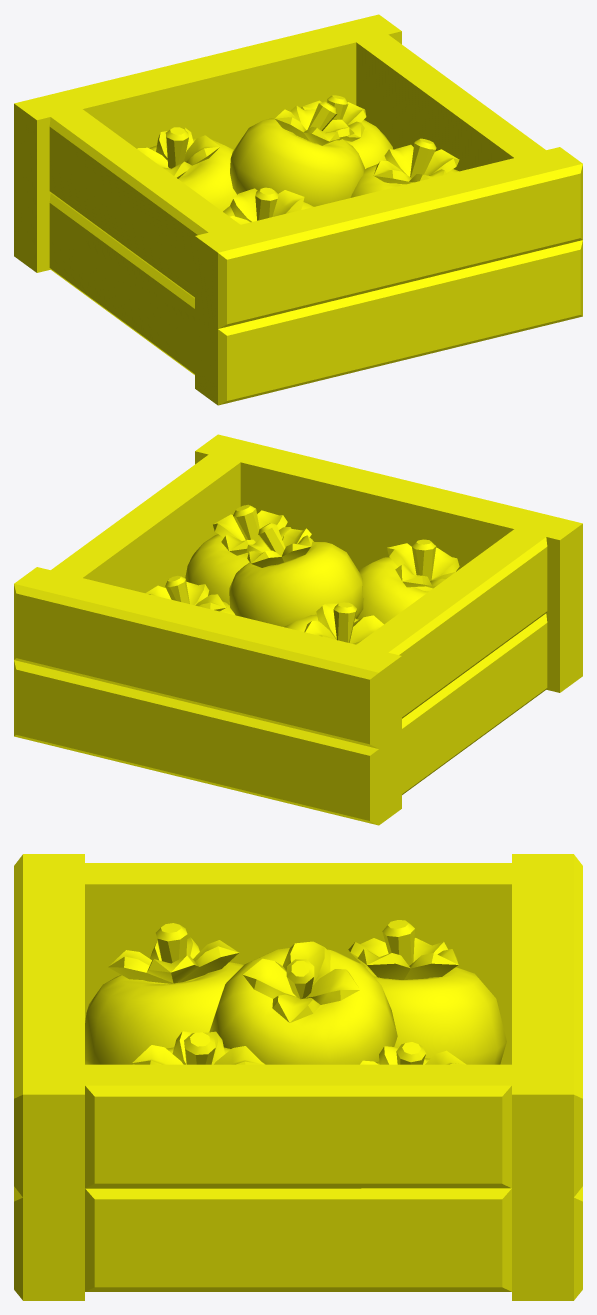
The model's file is crate_tomatoes.gltf.
3 renders of one model, top to bottom at view 1: azimuth 30°, elevation 25°; view 2: azimuth 150°, elevation 25°; view 3: azimuth 270°, elevation 25°, orthographic. The views are drawn at different scales.
Visible parts, largest first — view 1: crate_tomatoes; view 2: crate_tomatoes; view 3: crate_tomatoes.
Part boxes in pixels (x1,y1,x2,y2): crate_tomatoes: [14, 14, 582, 405]; crate_tomatoes: [14, 434, 582, 825]; crate_tomatoes: [14, 854, 582, 1300].
Bounding box in the file's own units: 2 × 0.9233 × 2.
Materials: 1 (1 with a texture image).
